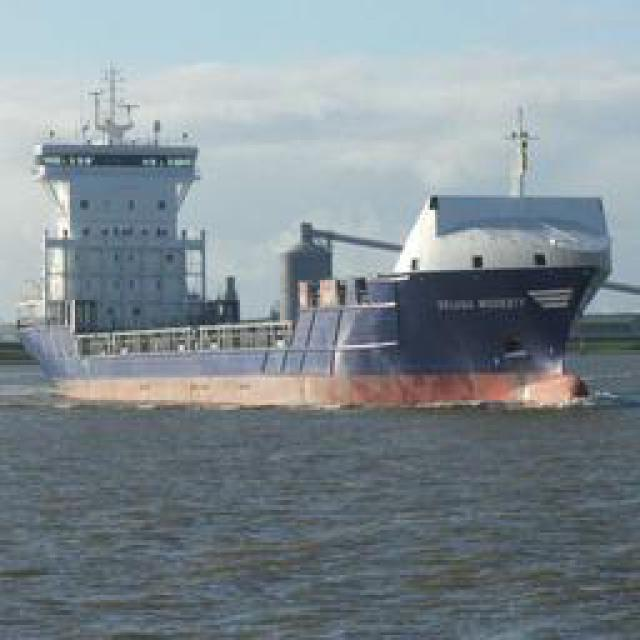Ship: (47, 172, 610, 412)
